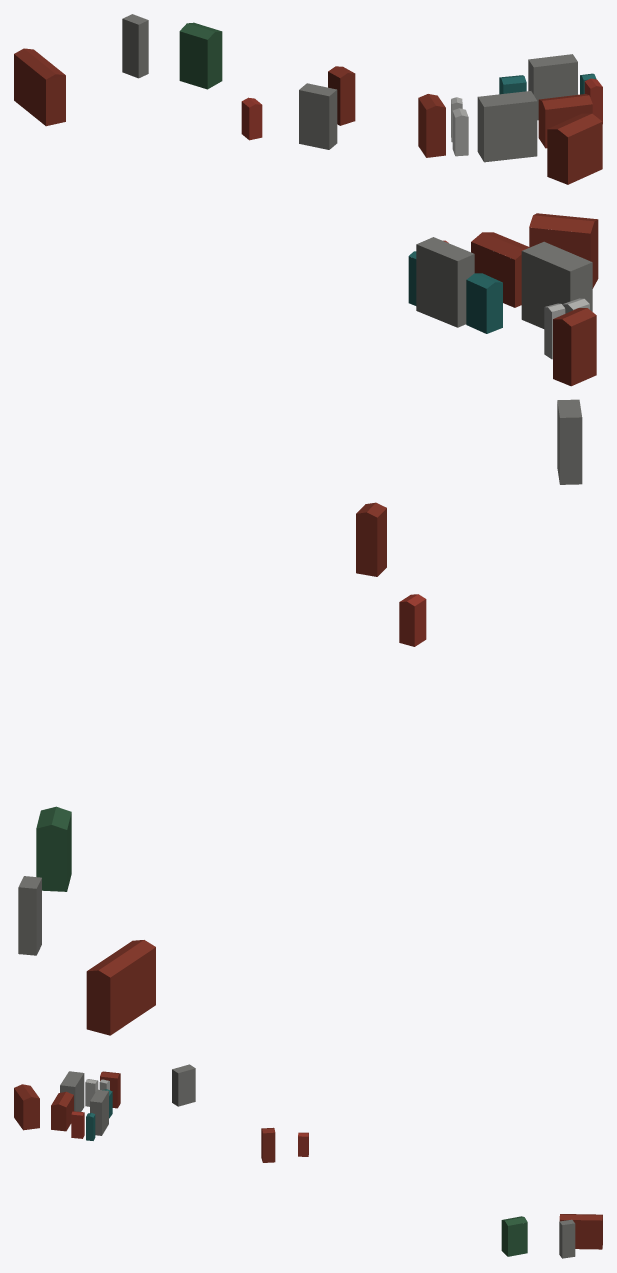
The model's file is near-15-27365-14858.517cab0c.glb.
3 views of the same model, one above another, from view 1: azimuth 30°, elevation 25°; view 2: azimuth 150°, elevation 25°; view 3: azimuth 270°, elevation 25° (orthographic). The views are drawn at different scales.
Bounding box in the file's own units: 97.11 × 130 × 367.
